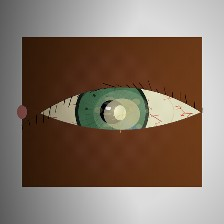corneal_ulcer: (92, 90, 151, 138)
